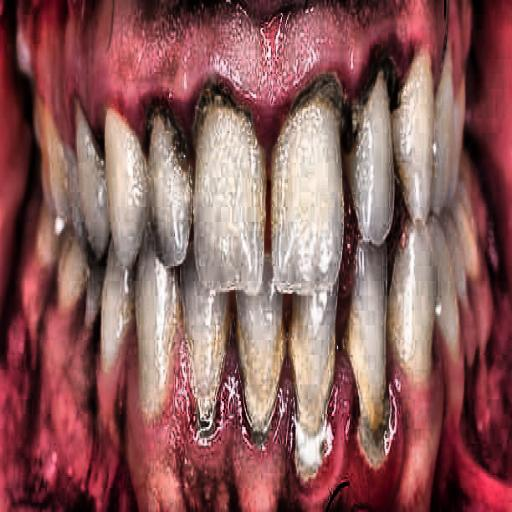Gingivitis: (27, 0, 477, 127), (62, 396, 414, 512)
